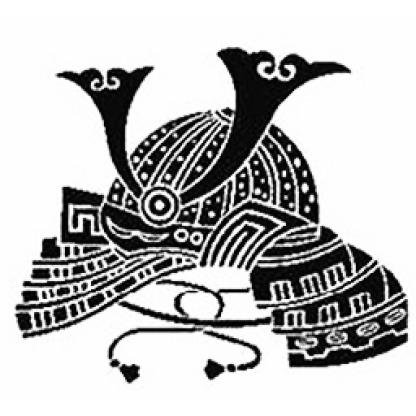kamon: (11, 44, 408, 383)
